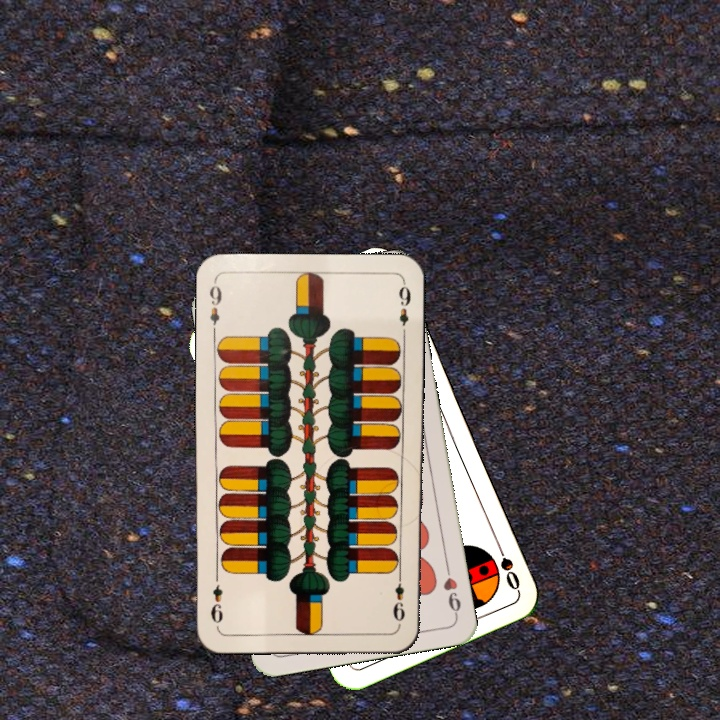E9: (205, 278, 224, 337), (389, 569, 407, 628)
H9: (439, 560, 464, 619)
SO: (492, 536, 523, 593)
